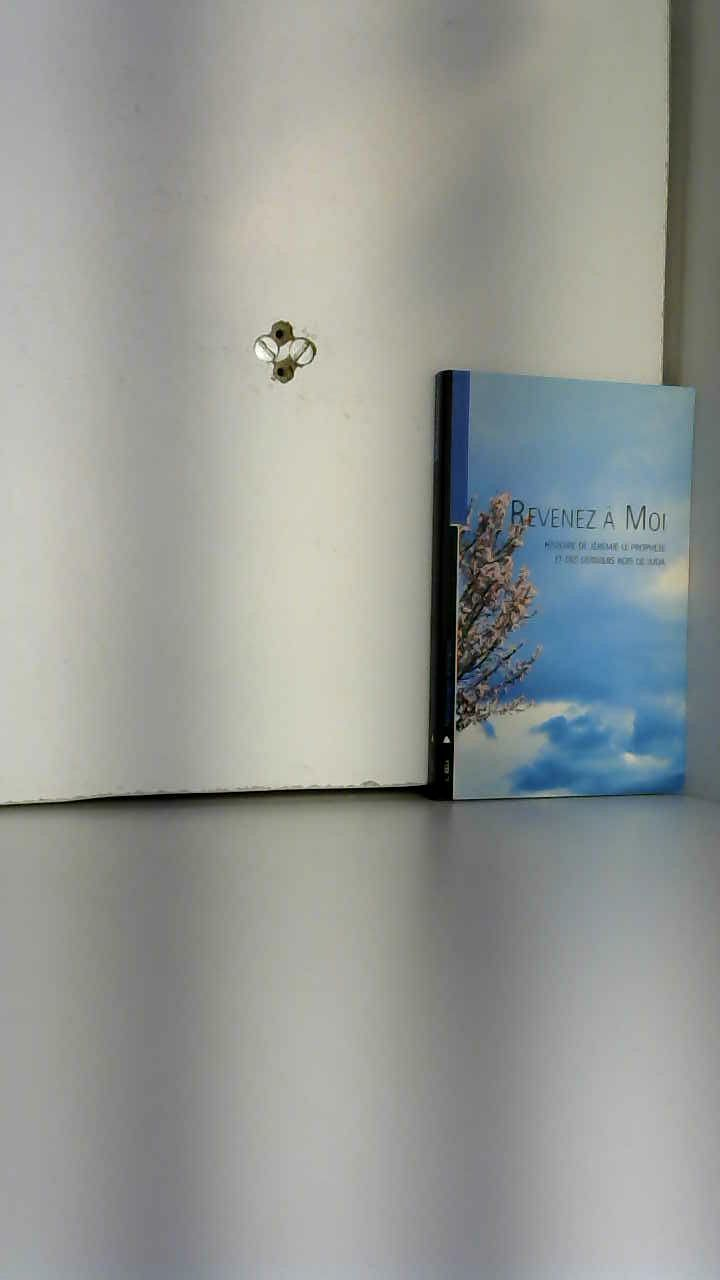book: (402, 329, 720, 847)
